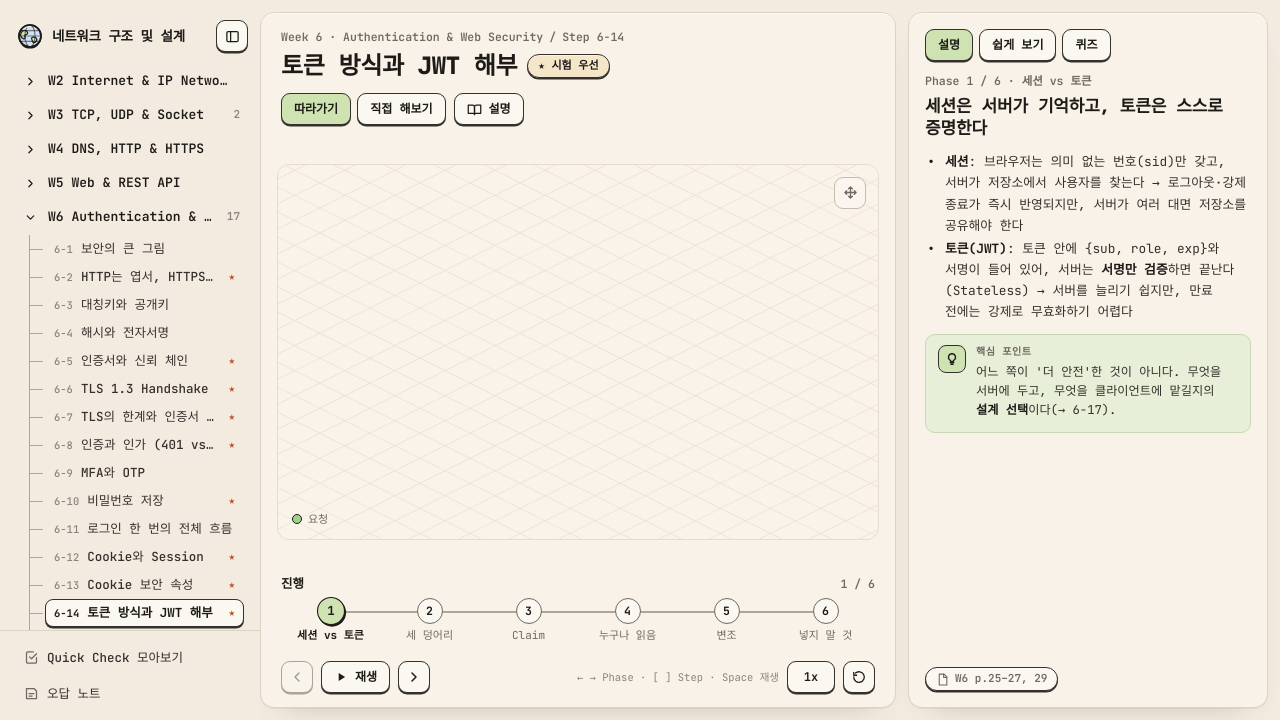
6-14 JWT 해부 › 직접 해보기: 처음엔 통과, role을 바꾸면 서명 불일치, 다시 발급하면 통과
This screenshot has width=1280, height=720.
Later steps or results of the test are not shown.
Click the button "직접 해보기": click(401, 109) x1=357 y1=93 x2=446 y2=125
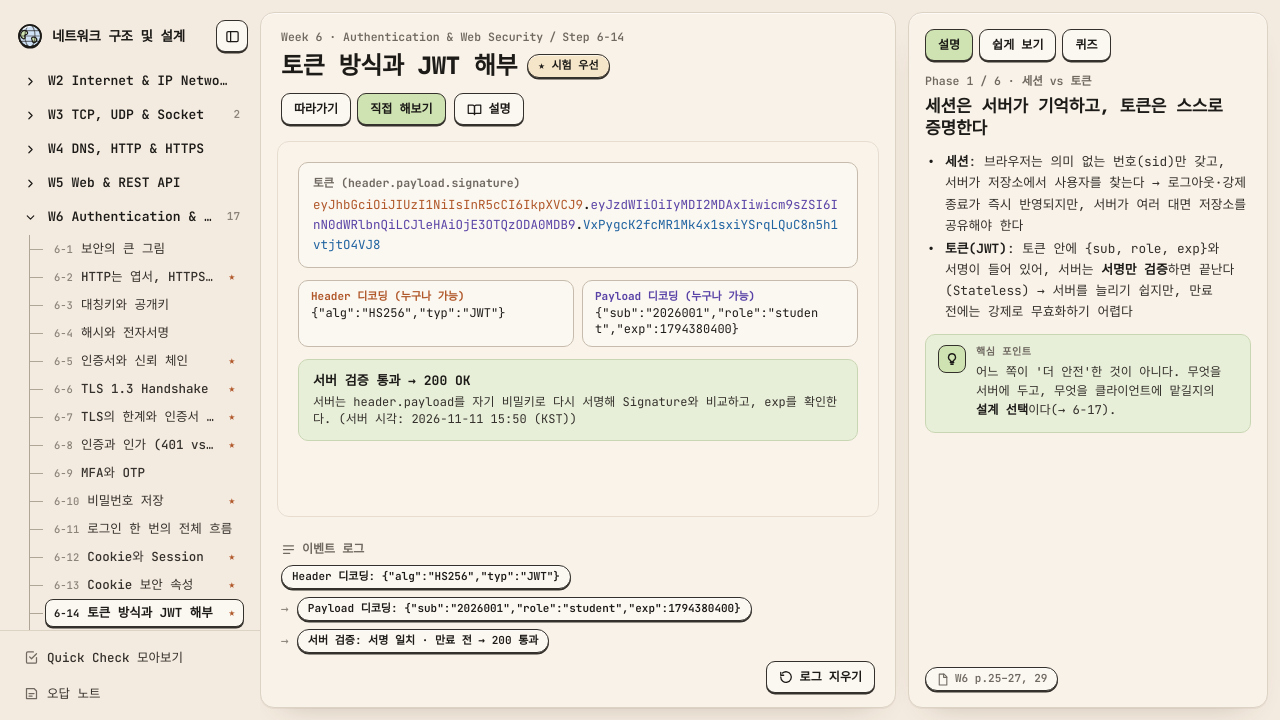
Now the text "서버 검증 통과 → 200 OK" is shown, box x1=313 y1=372 x2=471 y2=389
